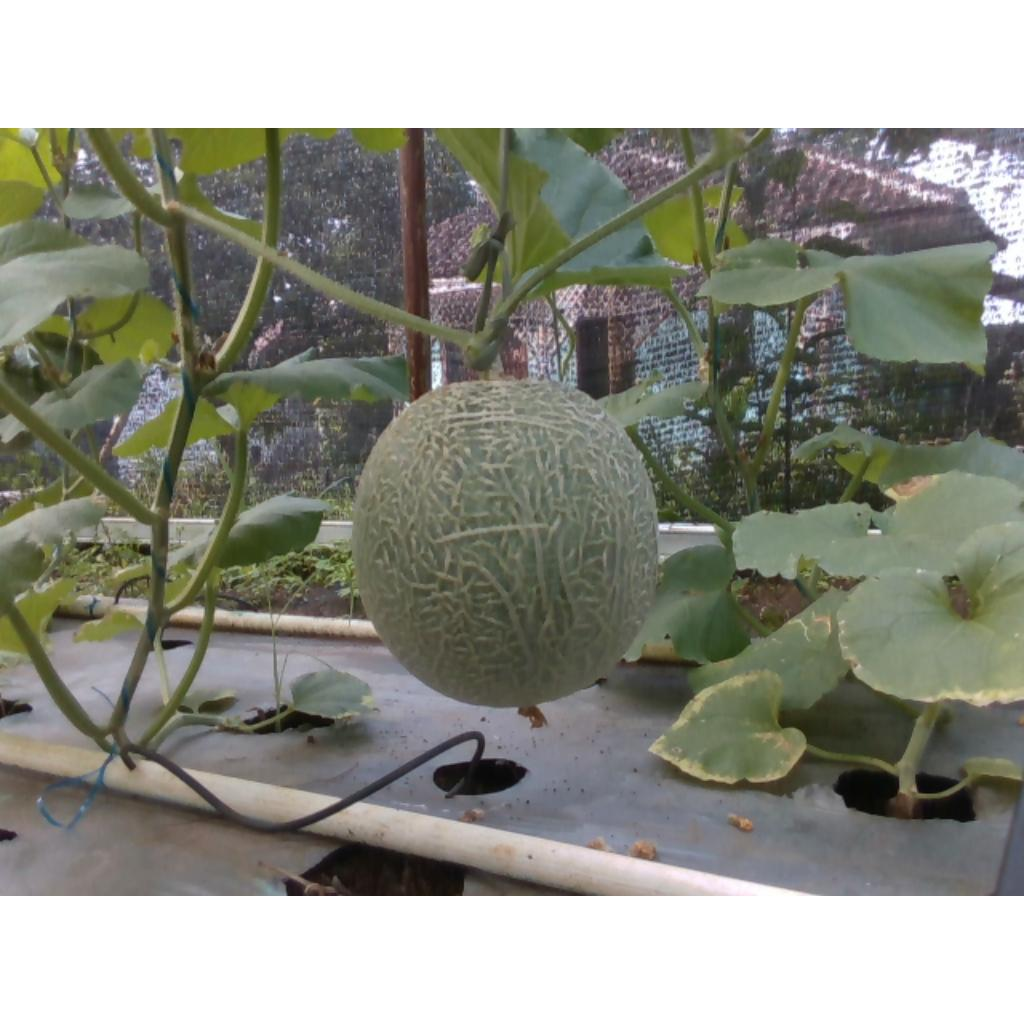melon: (355, 379, 658, 708)
